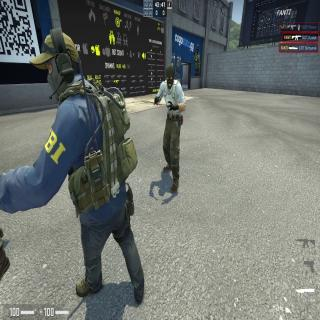CT-Body: (45, 30, 129, 292)
CT-Head: (45, 30, 82, 101)
T-Body: (162, 64, 182, 198)
T-Head: (165, 65, 175, 88)
